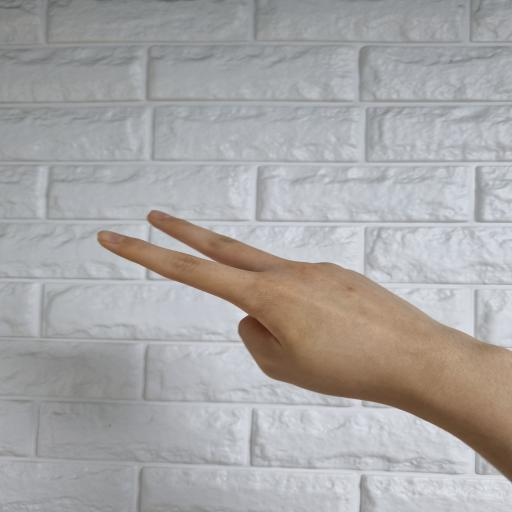Scissors: (97, 210, 477, 414)
